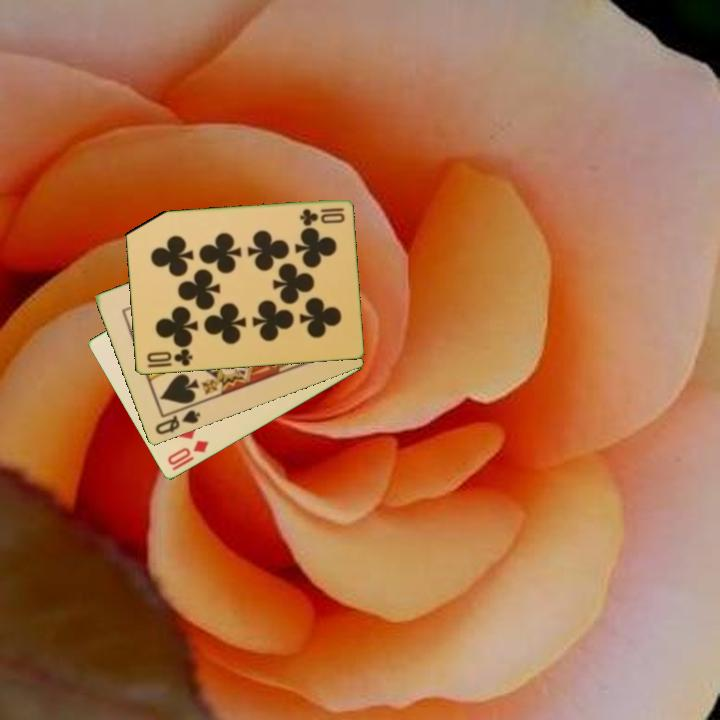10c: (143, 345, 195, 369), (296, 205, 347, 227)
10d: (164, 437, 211, 474)
Qs: (151, 407, 203, 438)
